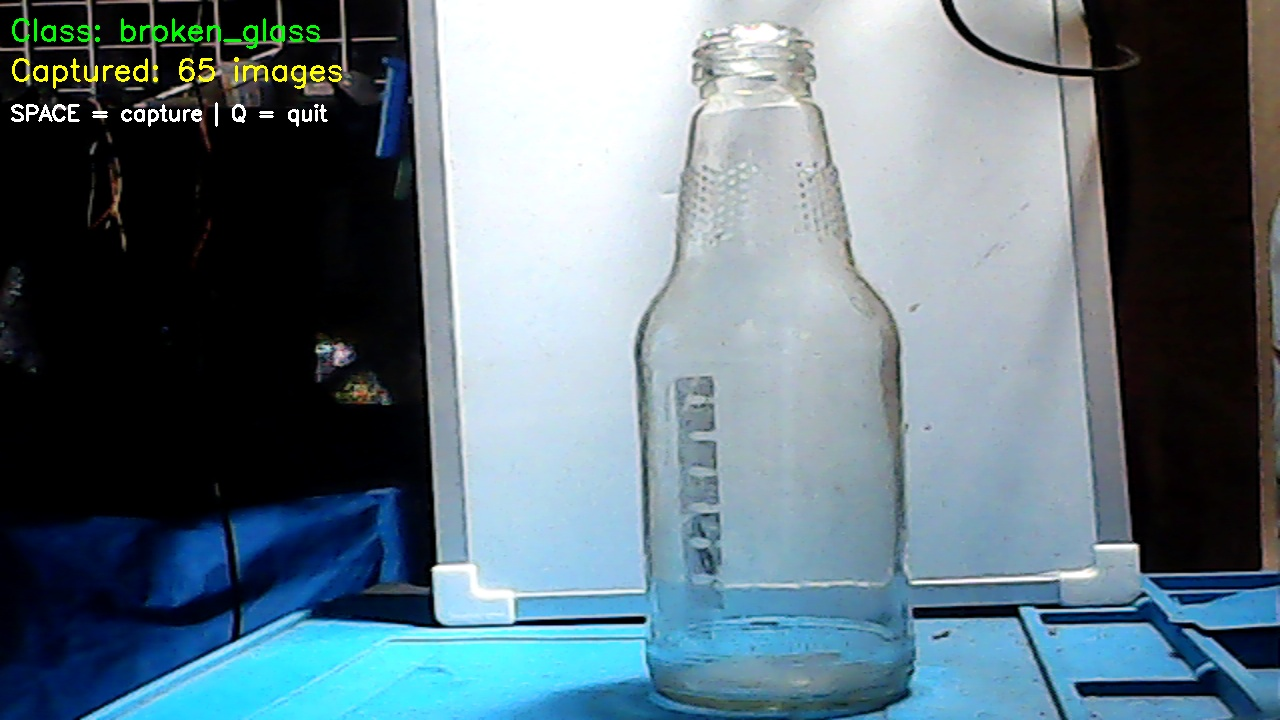broken_glass: (628, 2, 866, 195)
